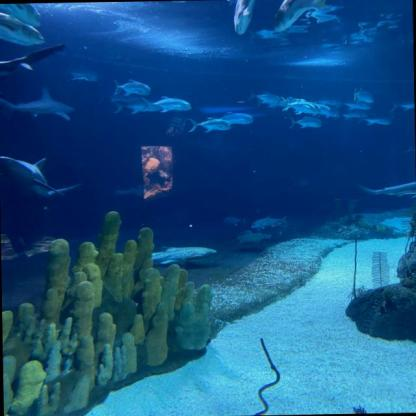fish: (268, 0, 332, 31), (0, 10, 47, 49), (0, 3, 60, 26), (149, 245, 218, 265), (232, 0, 262, 38), (67, 63, 104, 85), (192, 118, 232, 136), (115, 80, 155, 96), (214, 110, 255, 125), (152, 98, 191, 113), (112, 99, 146, 114), (252, 217, 291, 230), (253, 89, 279, 106), (346, 88, 376, 102), (294, 101, 321, 116), (295, 117, 323, 130), (365, 113, 392, 126), (289, 100, 315, 113), (220, 216, 246, 228), (345, 101, 373, 112), (310, 104, 334, 116), (389, 101, 414, 112), (341, 110, 365, 121)
shark: (1, 155, 66, 207), (7, 93, 77, 121), (0, 48, 55, 79), (364, 182, 415, 202)
stingray: (238, 231, 272, 245)
